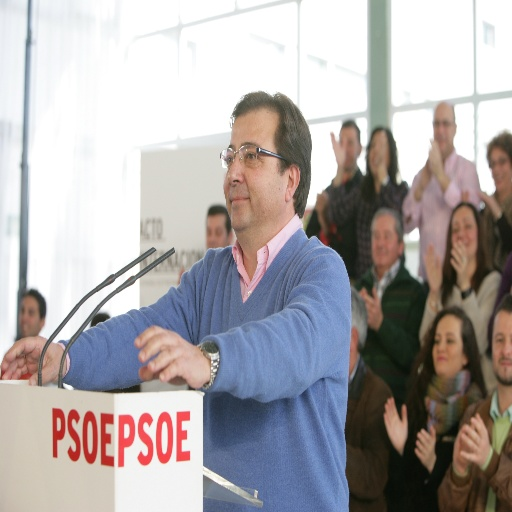hand: (133, 324, 210, 390), (0, 335, 66, 385), (461, 413, 489, 464), (382, 397, 408, 450), (421, 241, 444, 291), (414, 423, 435, 469), (362, 285, 384, 328), (450, 240, 469, 285), (455, 423, 469, 473), (428, 137, 444, 179), (331, 129, 346, 167), (416, 159, 431, 193), (480, 189, 500, 214), (374, 154, 389, 182), (316, 193, 326, 228), (360, 287, 366, 294)
